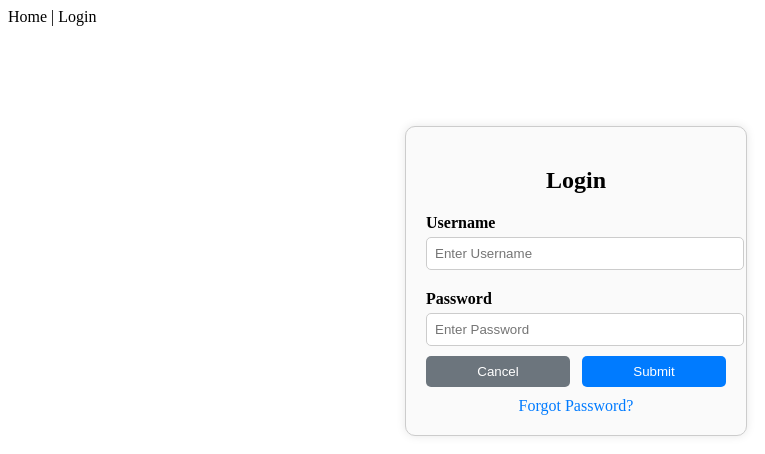
it: Detailed Scenario 3: Reset Password › should click Reset Password link and verify URL
Click the link "Forgot Password?".
click(577, 406)  # box [519, 397, 634, 414]
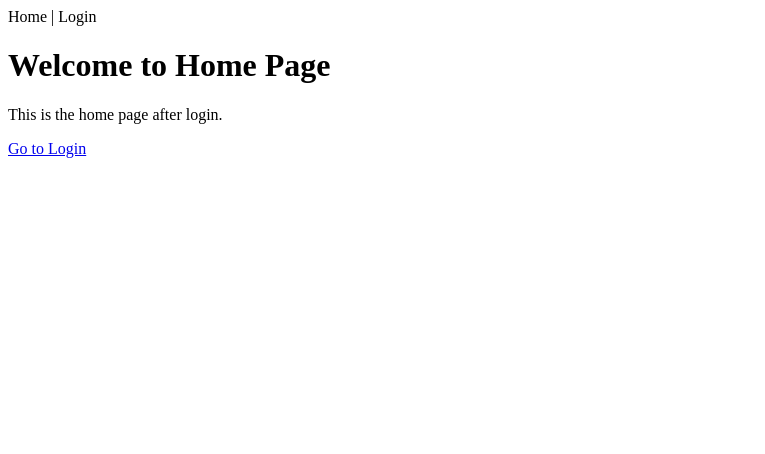
Check: the heading "Welcome to Home Page" is shown, box [8, 47, 330, 83]
